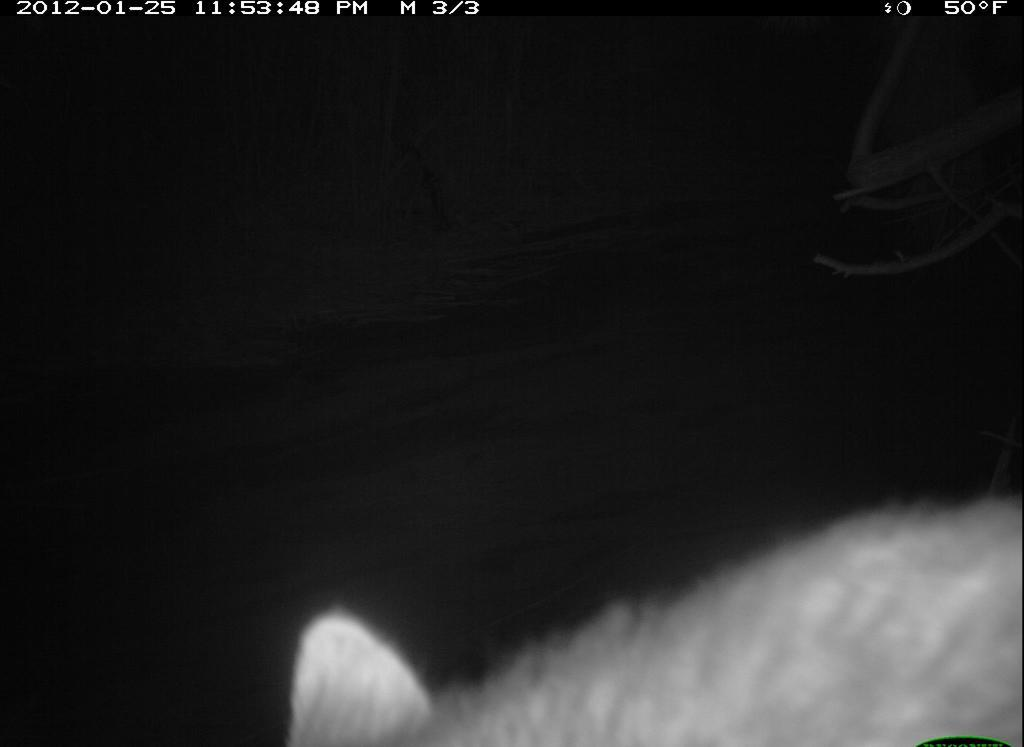raccoon: (273, 483, 1021, 744)
